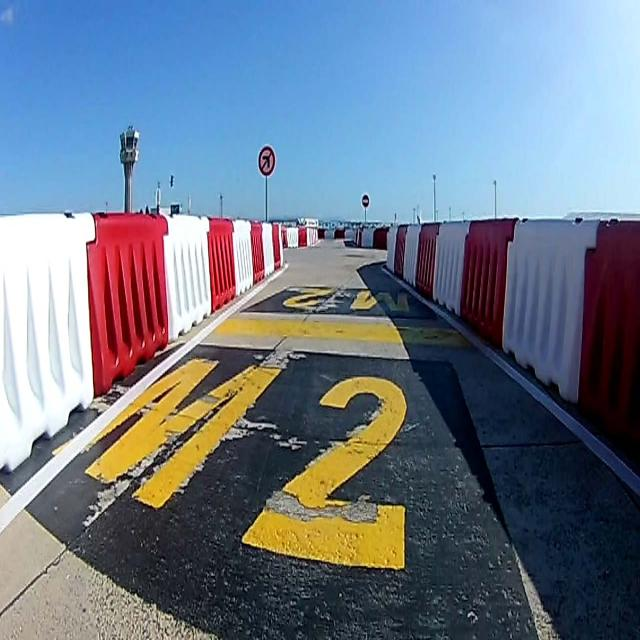soladonulmez: (259, 146, 275, 175)
